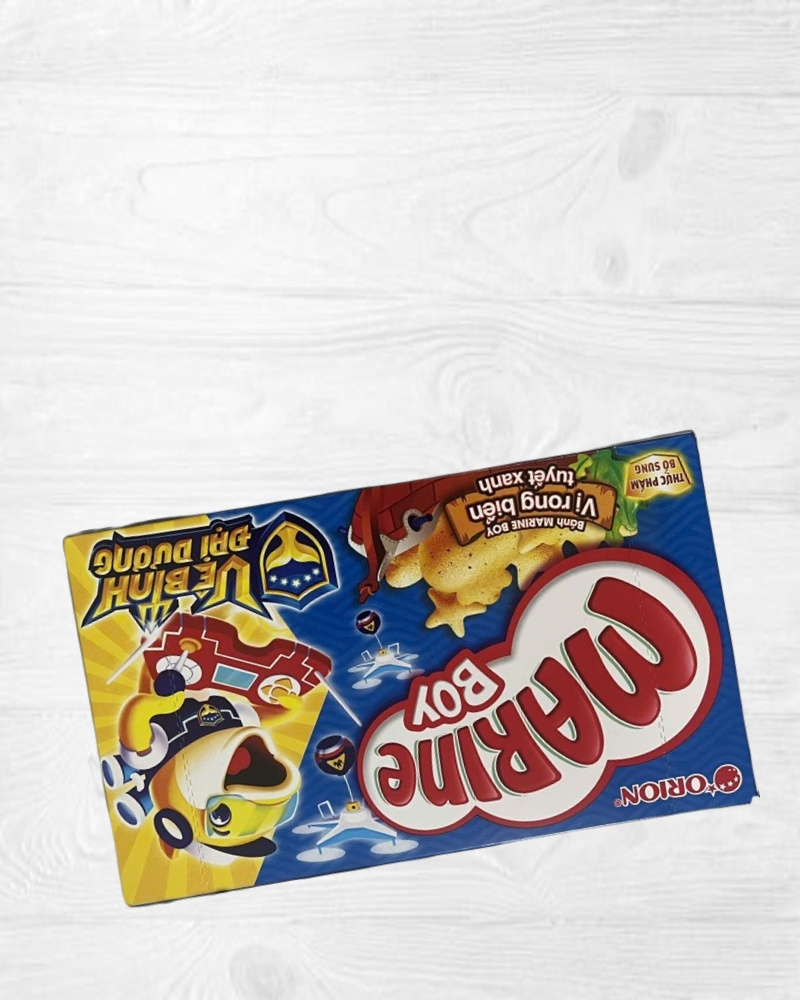Marine: (59, 425, 761, 914)
